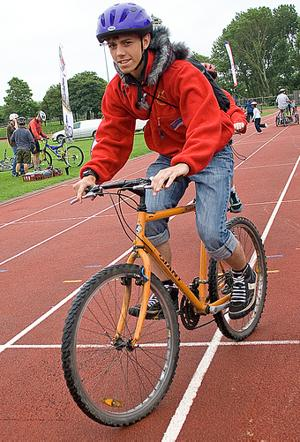person: (76, 4, 259, 326)
